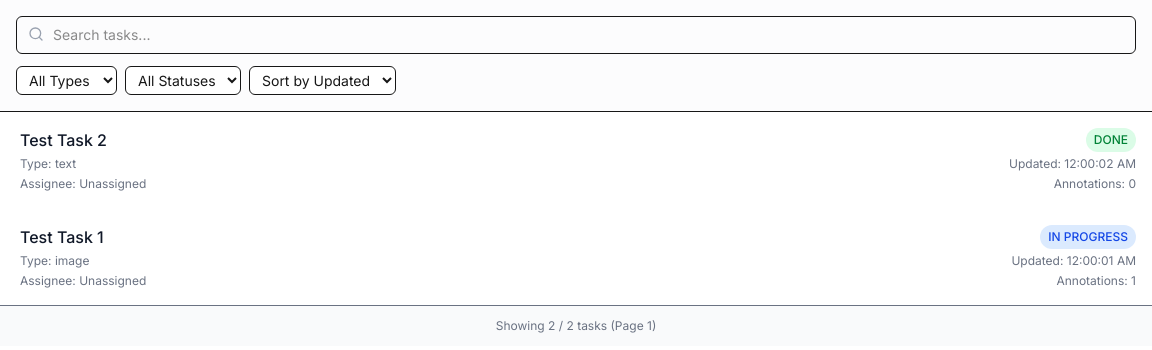
it: TaskList Component › renders tasks and filters them correctly
This screenshot has width=1152, height=350.
Expected: the text "Test Task 1" is shown, [20, 225, 104, 249]
Expected: the text "Test Task 2" is shown, [20, 128, 107, 152]
// Filter by type "image"
Select "Image" in the 1st dropdown at (66, 80), box [16, 66, 117, 95]
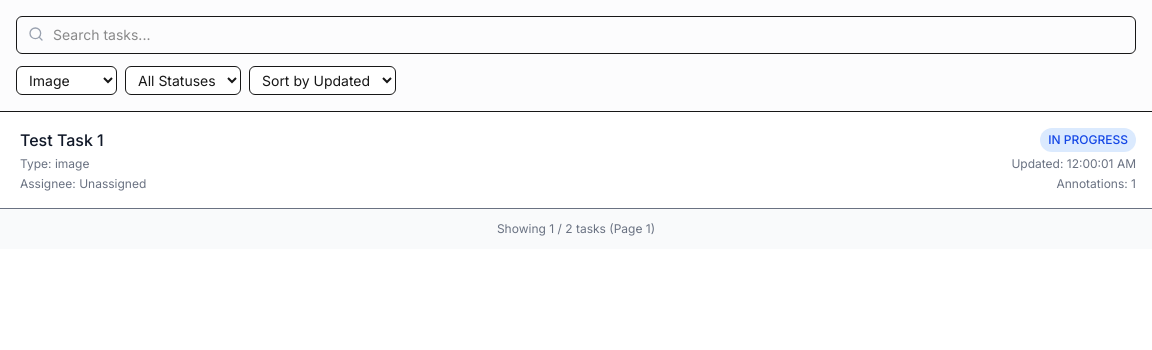
Expected: the text "Test Task 1" is shown, [20, 128, 104, 152]
Now the text "Test Task 2" is gone
